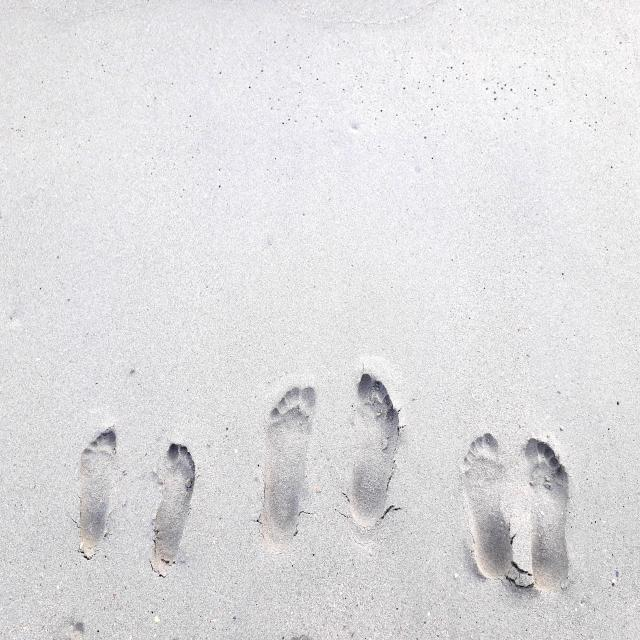human_foot_print: (58, 352, 614, 612)
